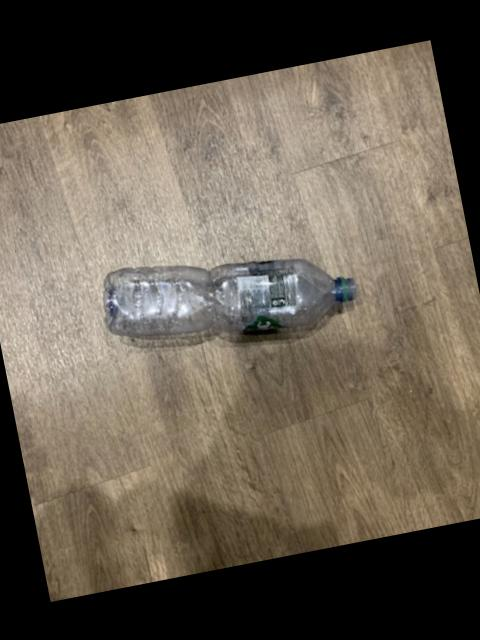plastic: (107, 259, 358, 337)
